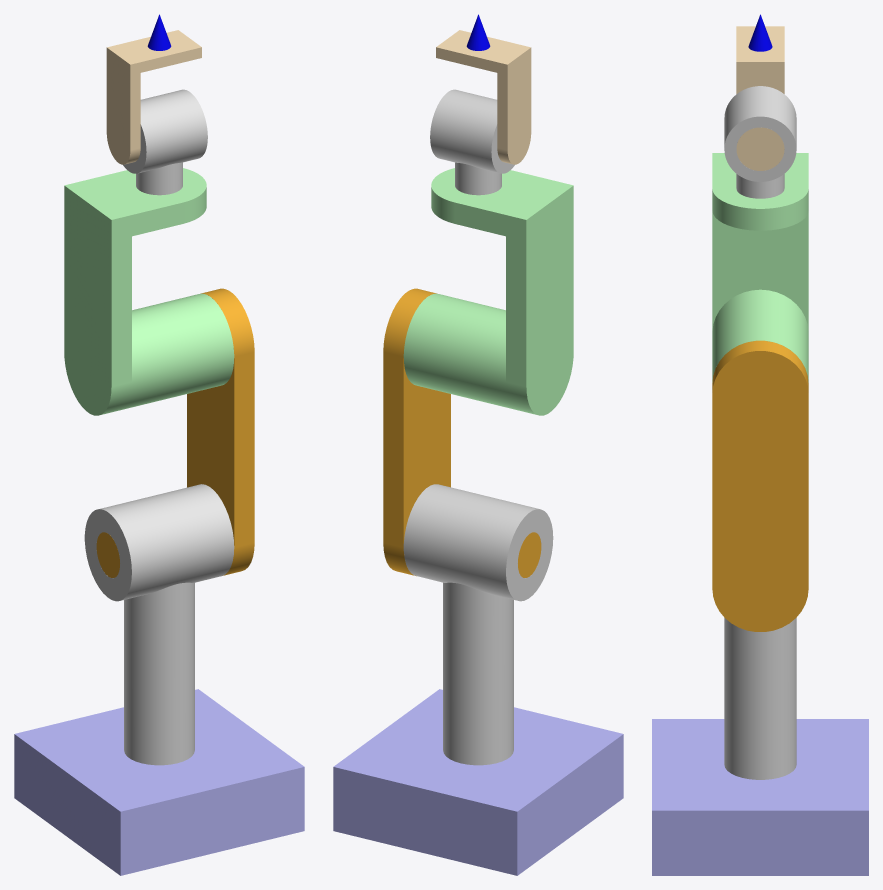
Rendered from simplified real robot (1).glb.
3 views of the same model, side by side, from view 1: azimuth 30°, elevation 25°; view 2: azimuth 150°, elevation 25°; view 3: azimuth 270°, elevation 25° (orthographic).
Visible parts, largest first — view 1: Body_1 (×6); view 2: Body_1 (×6); view 3: Body_1 (×6).
Boxes of the visible parts, box(x1,y1,x2,y2) form: Body_1 (×6): box(14, 14, 304, 875); Body_1 (×6): box(333, 14, 623, 875); Body_1 (×6): box(652, 14, 868, 875).
Bounding box in the file's own units: 0.09 × 0.374 × 0.09.
